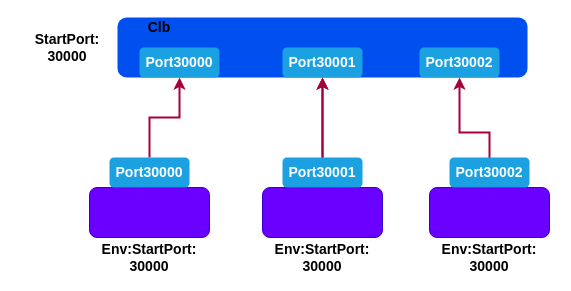
The diagram is 571 pixels wide and 291 high, and some of its shapes have lost their labels. Here are the shapes that lost their labels. From the top down, the centre of each, then its label:
At (149,212): "Stateful-pod1".
At (322,212): "Stateful-pod2".
At (489,212): "Stateful-pod3".
